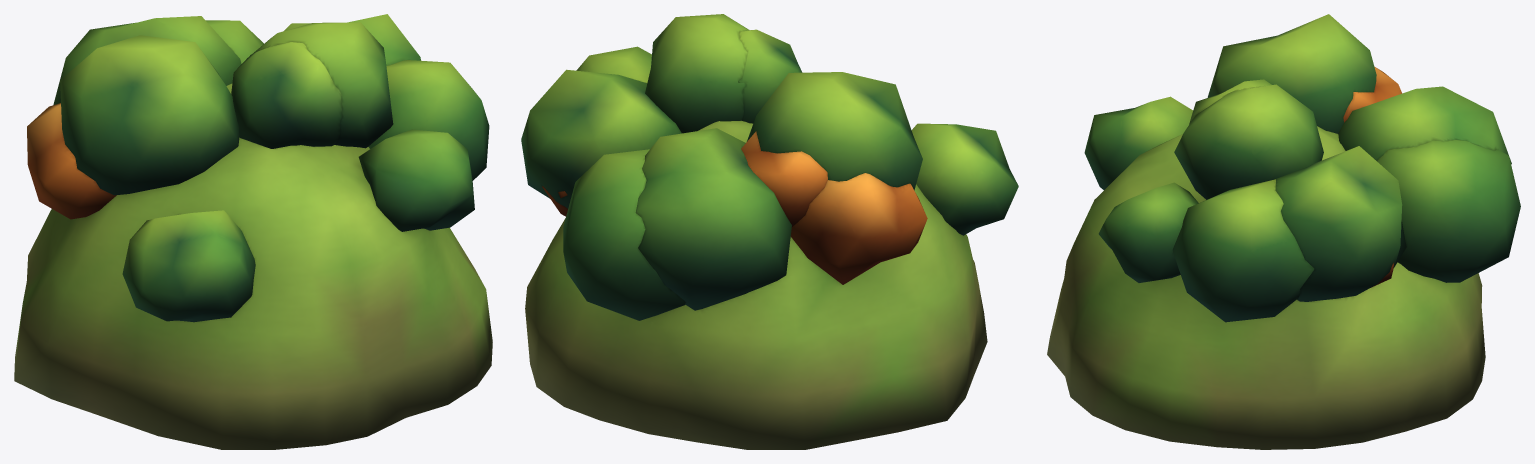
File: hill_c.glb
3 views of the same model, side by side, from view 1: azimuth 30°, elevation 25°; view 2: azimuth 150°, elevation 25°; view 3: azimuth 270°, elevation 25° (orthographic). The views are drawn at different scales.
Visible parts, largest first — view 1: hill_c; view 2: hill_c; view 3: hill_c.
Boxes of the visible parts, <box> form: hill_c: <box>14,14,492,449</box>; hill_c: <box>521,14,1018,449</box>; hill_c: <box>1047,14,1520,449</box>.
Bounding box in the file's own units: 1.88 × 1.33 × 1.94.
Materials: 1 (1 with a texture image).
